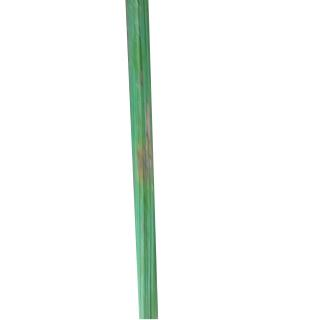Blast: (136, 92, 150, 200), (138, 68, 145, 90)
